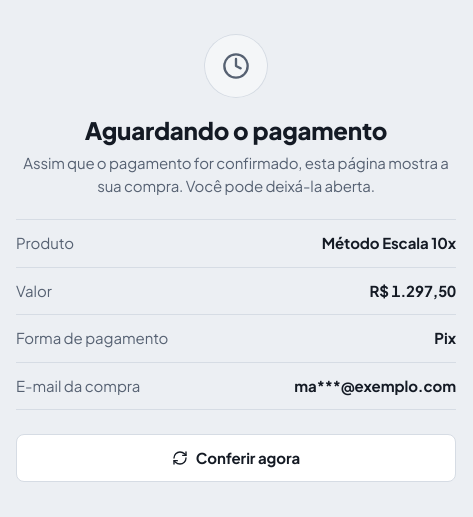
Scenario: página de obrigado › 'Conferir agora' consulta de novo e vira confirmada quando o servidor aprova
Click the button "Conferir agora": (236, 458) x1=16 y1=434 x2=456 y2=482
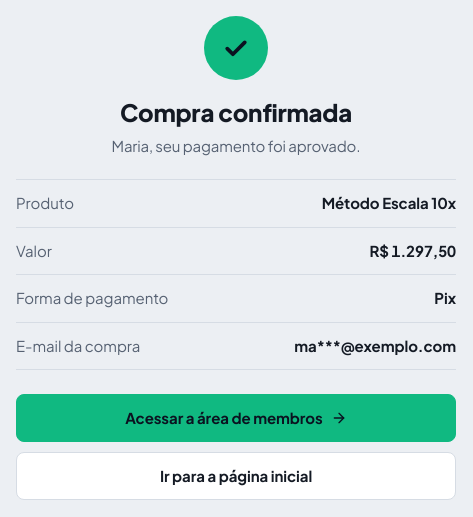
Now the heading "Compra confirmada" is shown, box x1=120 y1=97 x2=352 y2=127
